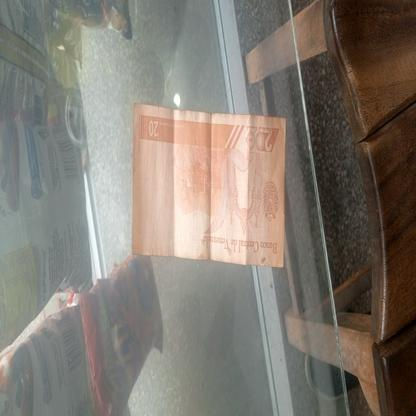twenty-back-vef: (131, 102, 287, 268)
